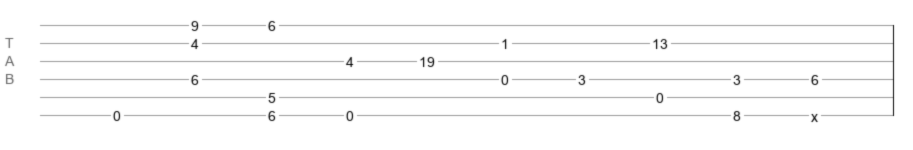0: (113, 108, 121, 118), (346, 108, 354, 118), (501, 72, 509, 82), (656, 90, 664, 100)
1: (501, 36, 509, 46)
13: (652, 36, 668, 46)
19: (419, 54, 435, 64)
3: (578, 72, 586, 82), (733, 72, 741, 82)
4: (191, 36, 199, 46), (346, 54, 354, 64)
5: (268, 90, 276, 100)
6: (191, 72, 199, 82), (268, 108, 276, 118), (268, 18, 276, 28), (811, 72, 819, 82)
8: (733, 108, 741, 118)
9: (191, 18, 199, 28)
x: (811, 109, 818, 117)
